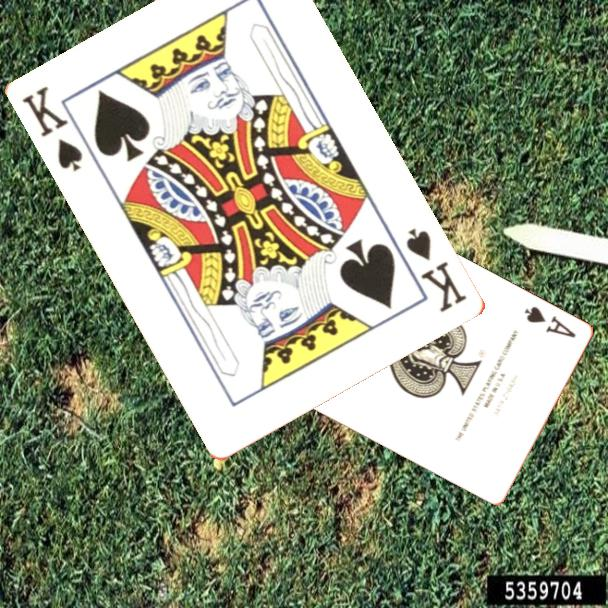s01: (520, 303, 579, 341)
s13: (19, 82, 87, 175), (403, 224, 470, 316)
